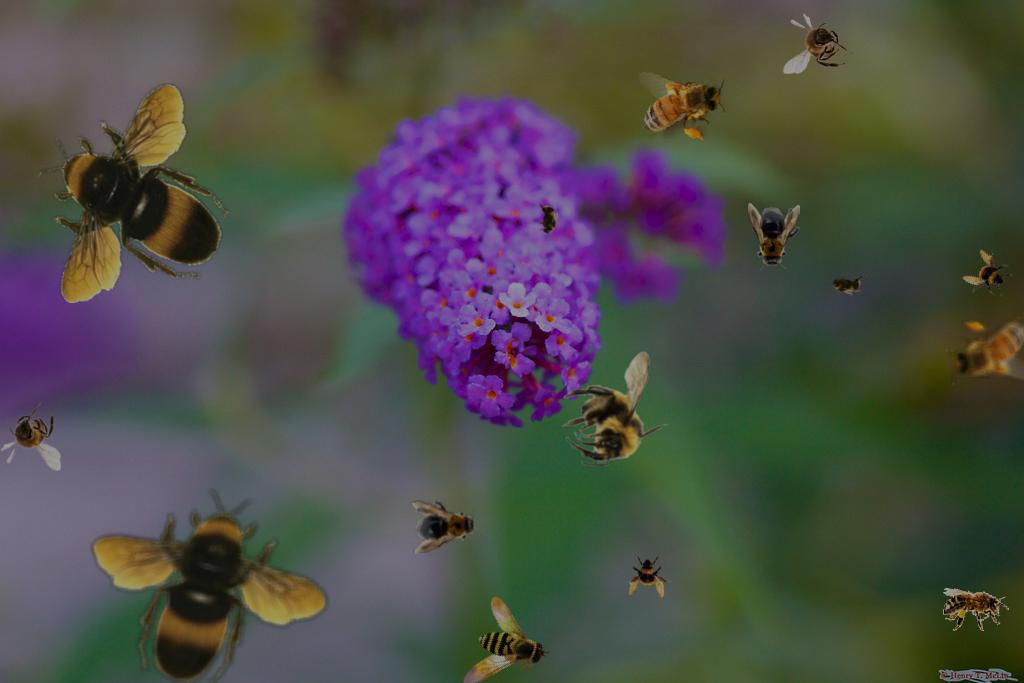Bee: (85, 471, 341, 683), (38, 83, 229, 303), (562, 351, 669, 466), (433, 589, 553, 683), (629, 66, 731, 147), (946, 317, 1024, 385), (409, 496, 483, 554), (0, 401, 61, 471), (783, 13, 853, 74), (958, 246, 1018, 306), (941, 583, 1011, 634), (748, 203, 800, 271), (627, 554, 671, 598), (825, 271, 867, 297), (535, 199, 561, 241)
